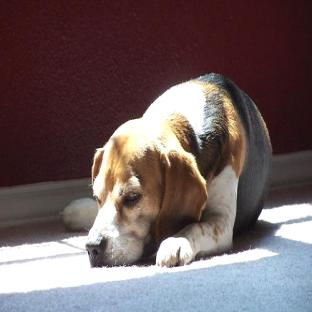Animal: (64, 73, 271, 266)
